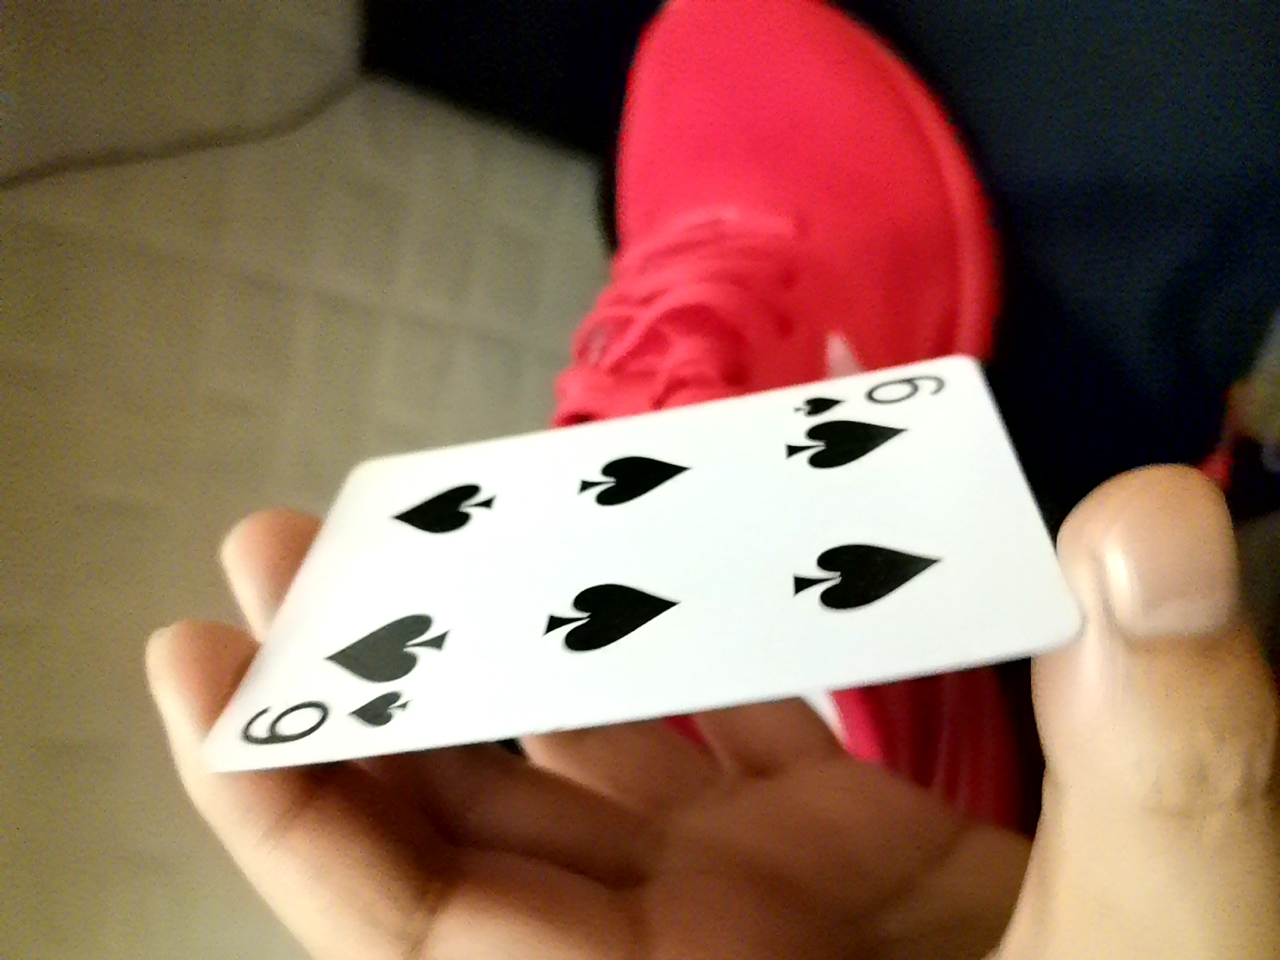ht 6: (170, 378, 1101, 765)
